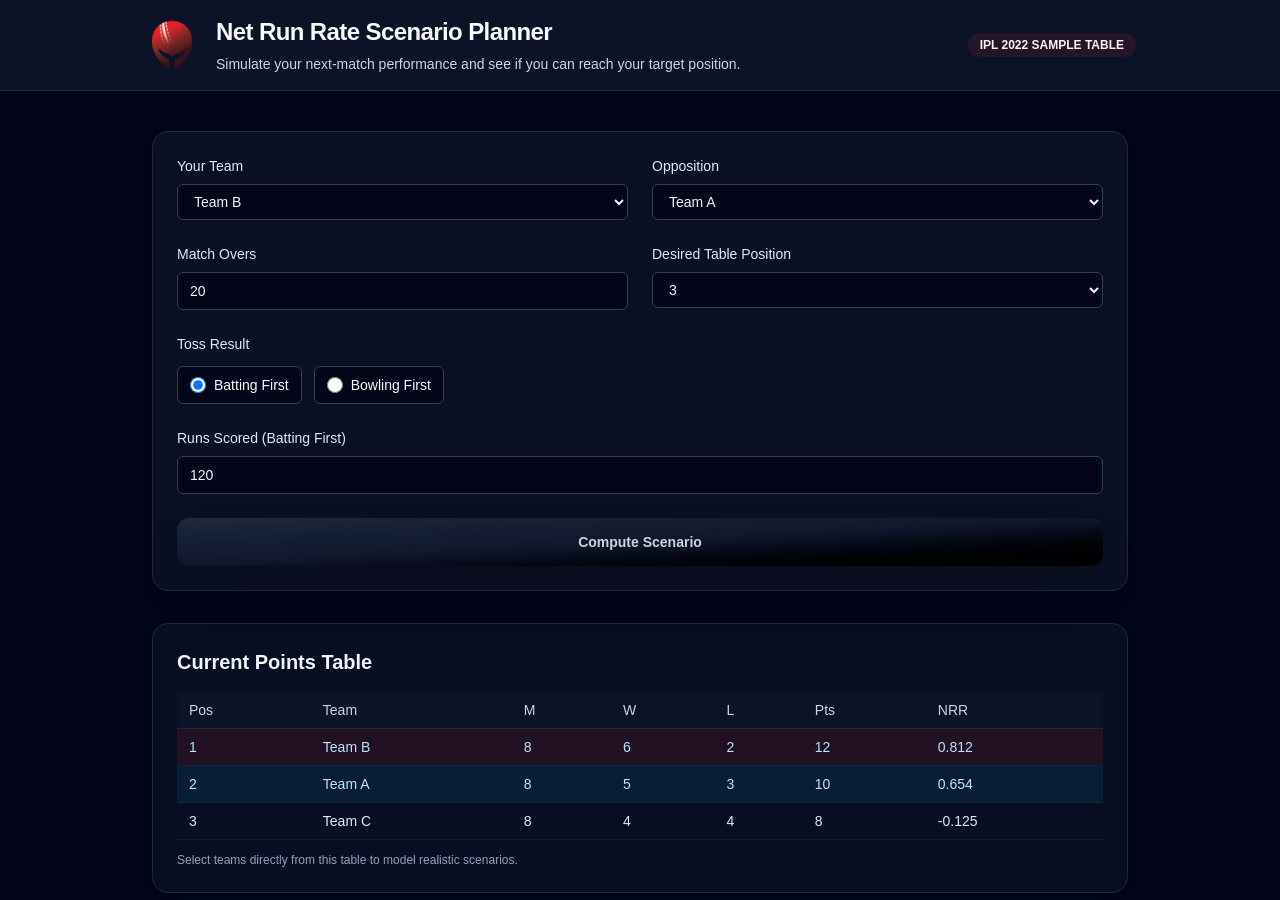
Test: Home page › submits a scenario request and renders the result
The width and height of the screenshot is (1280, 900).
Replace the text in the number field labelled "Runs Scored (Batting First)" with "160". click: (640, 475)
box: [177,456,1103,494]
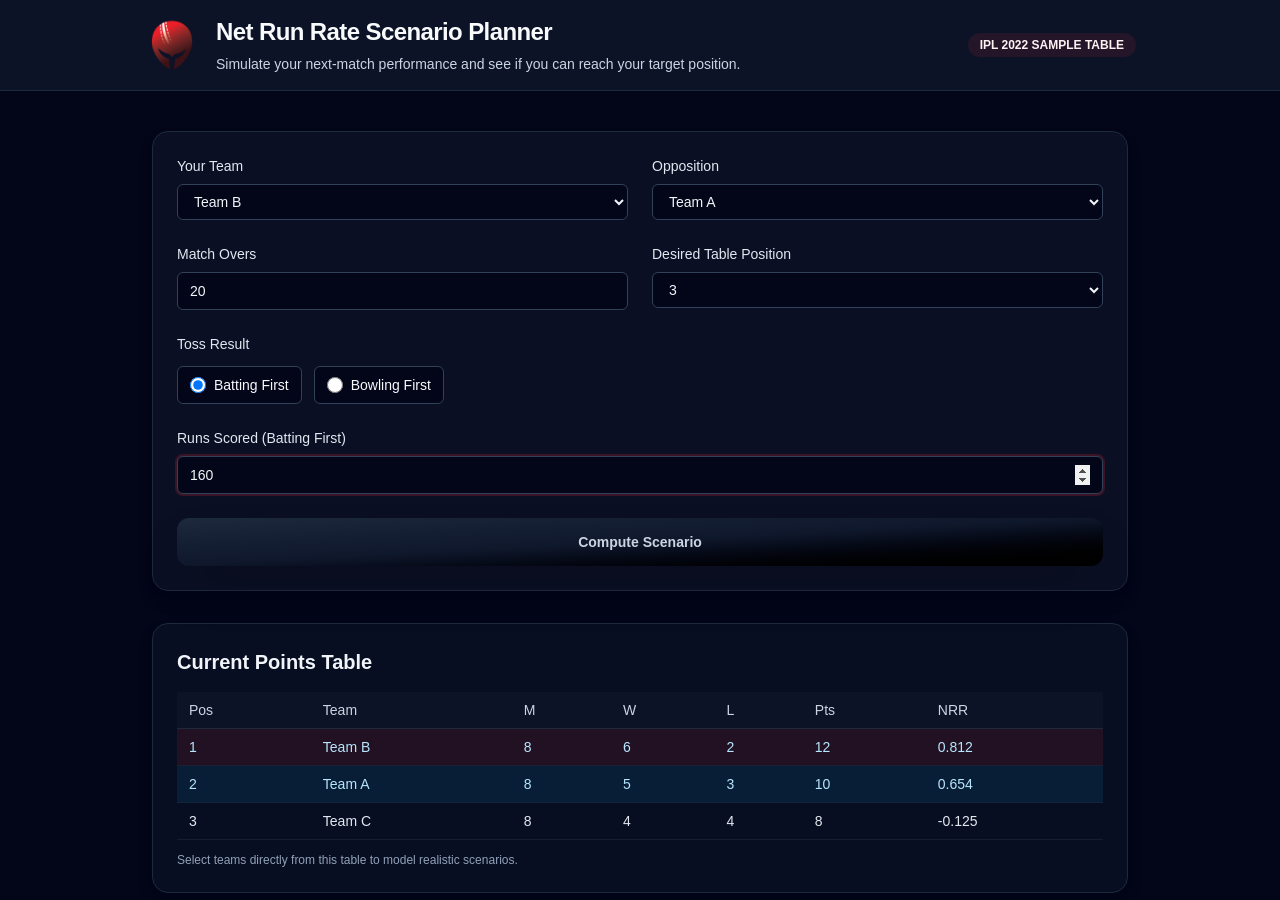
Click the button "Compute Scenario". click: (640, 542)
box: [177,518,1103,566]
(page scrolled)
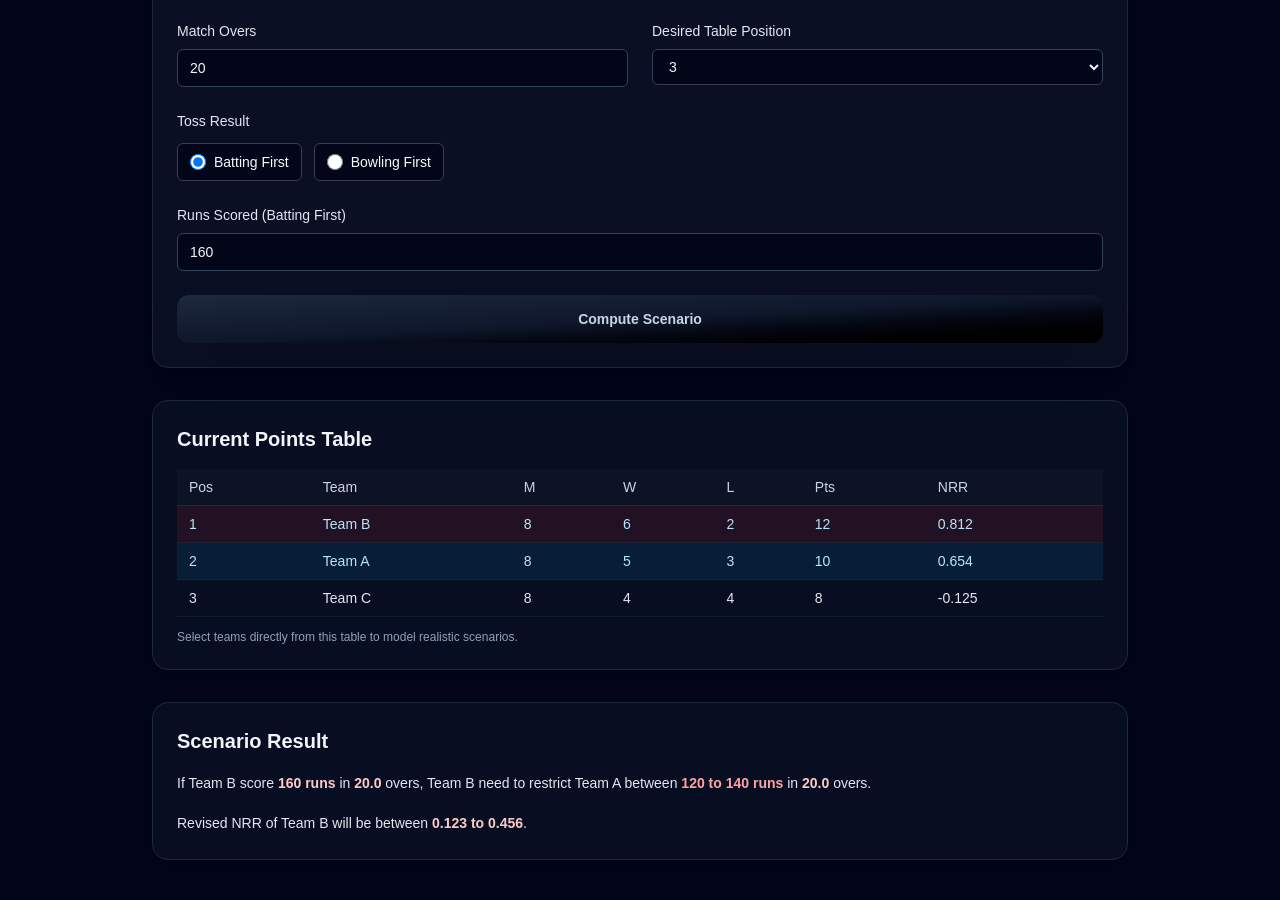
Result: the heading "Scenario Result" is shown at [177,730,328,752]
